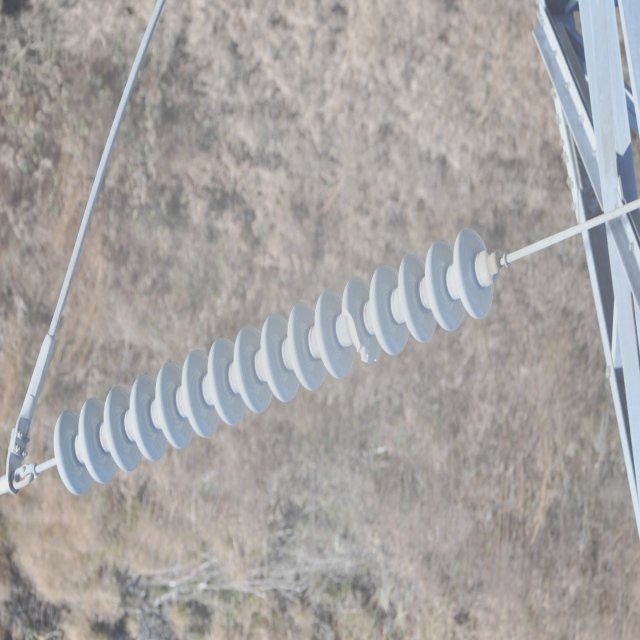broken: (341, 302, 377, 368)
insulator: (53, 228, 496, 495)
